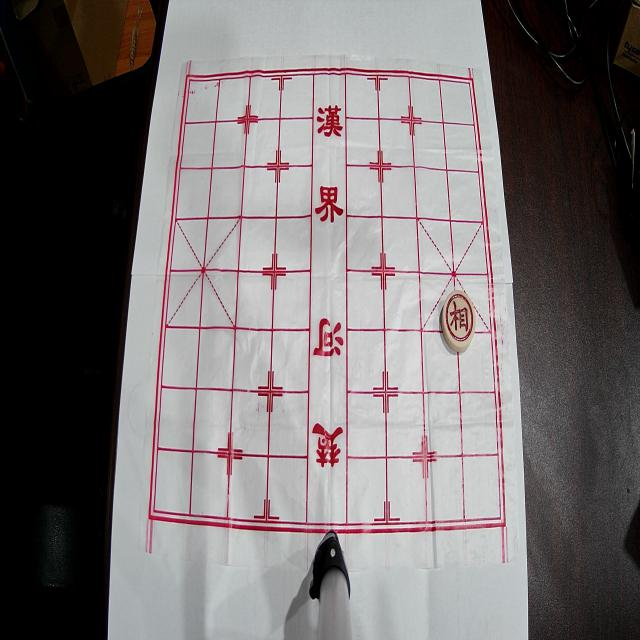red-elephant: (442, 290, 476, 352)
